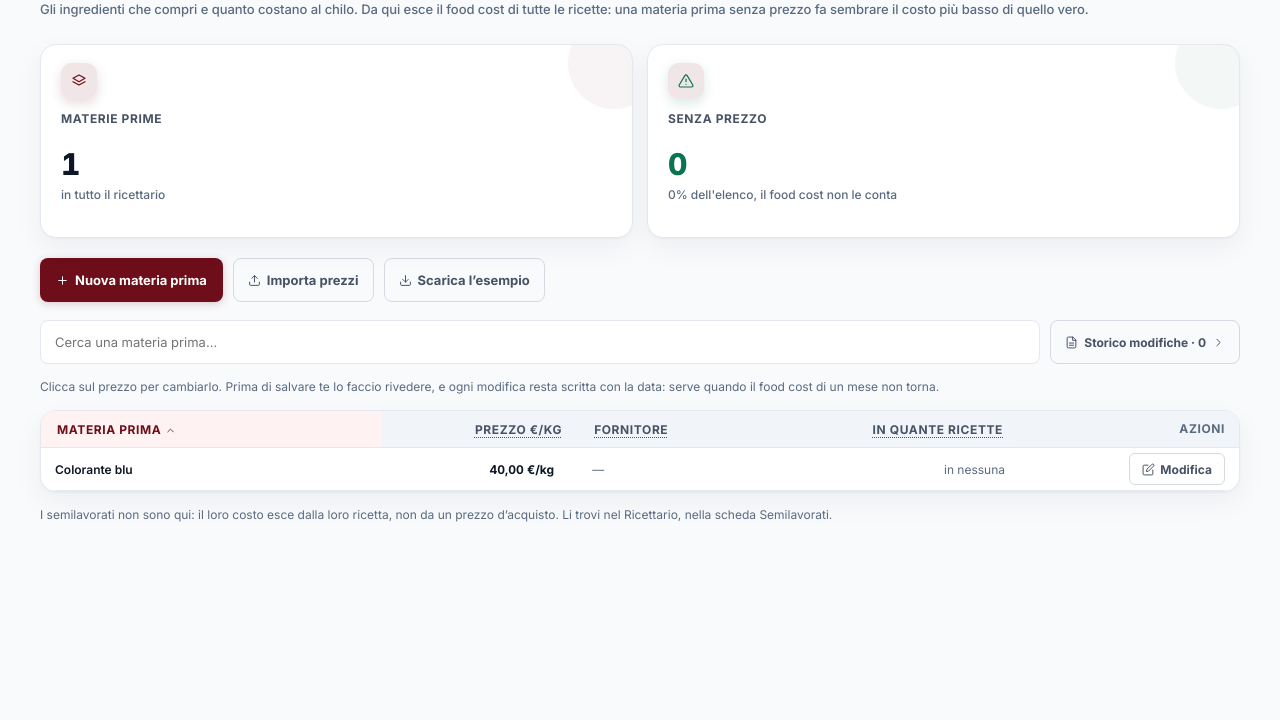
Scenario: dove non c’è rischio, non c’è cerimonia › e lo dice, invece di far pensare che ci sia un rischio
Click the button "Modifica": (1177, 469) 1129,453 -> 1225,485
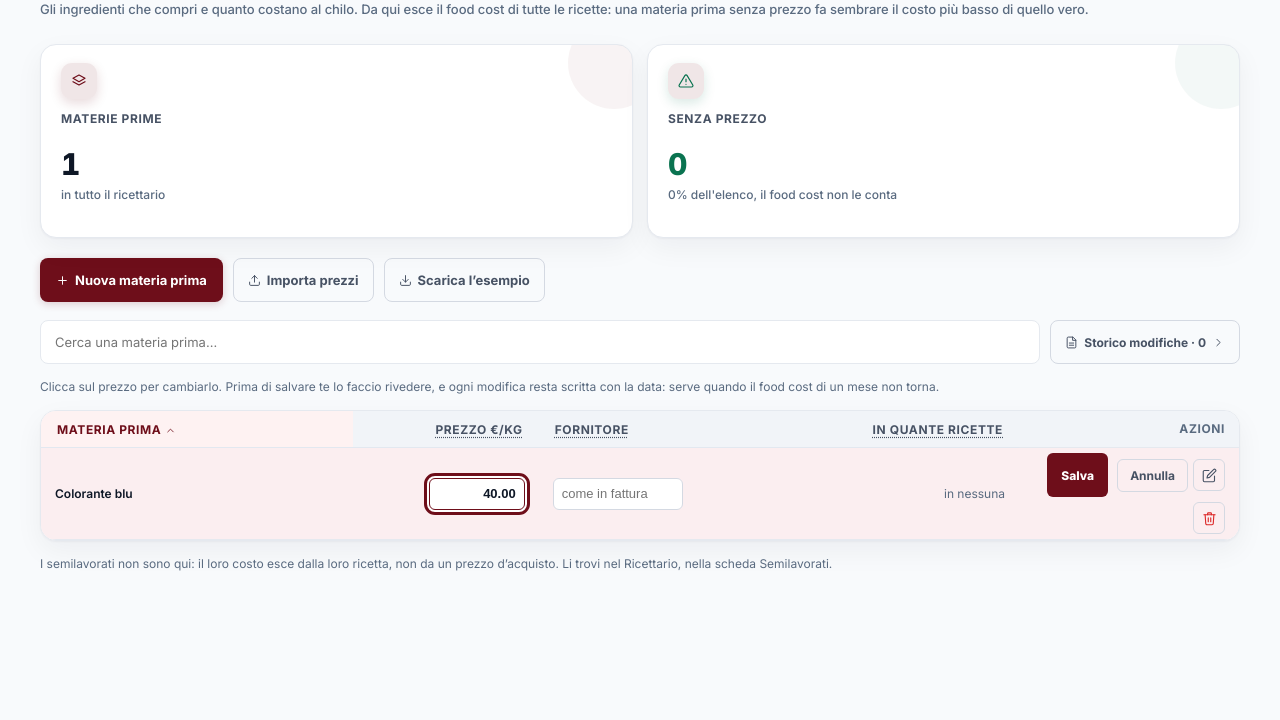
Now the button named "Elimina colorante blu" is shown
Click the button named "Elimina colorante blu": (1209, 518) 1193,502 -> 1225,534
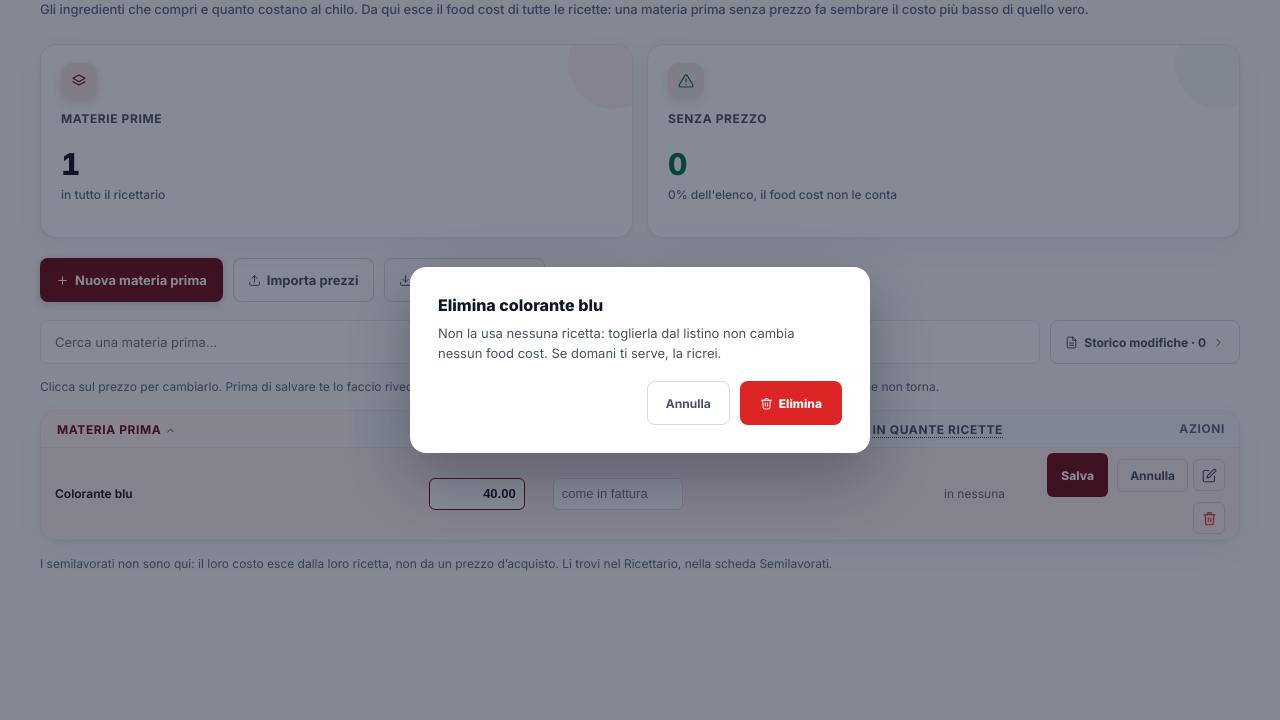
Now the dialog is shown
Now the dialog shows "nessuna ricetta", box 438,325 -> 794,361
